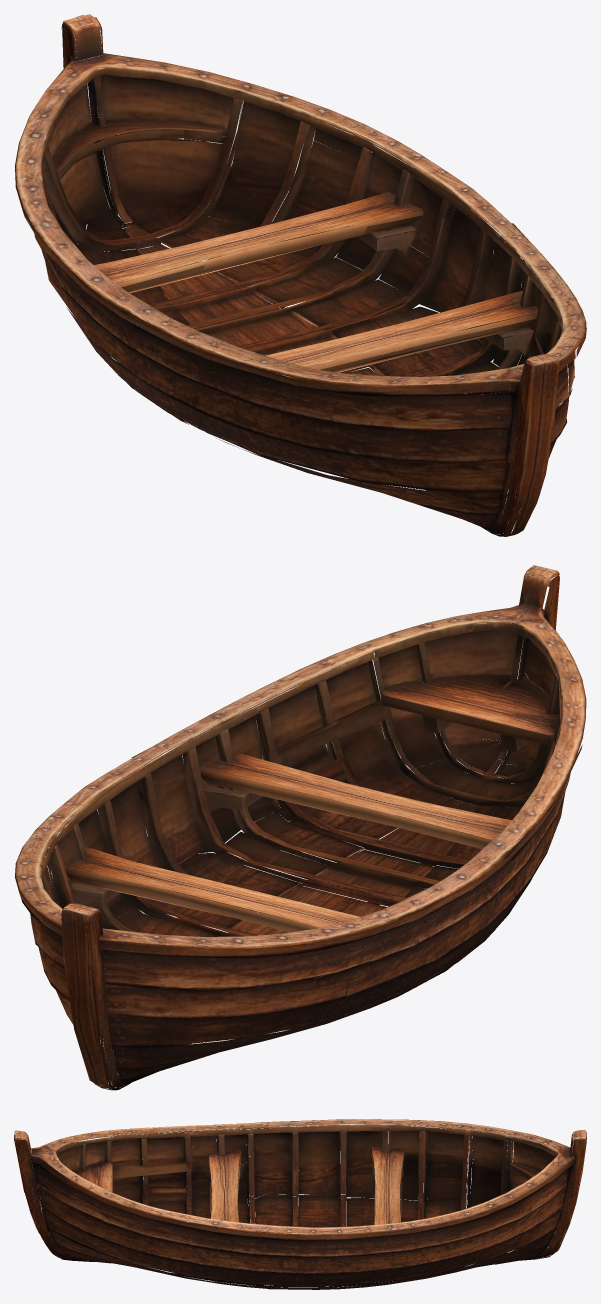
File: barque.glb
The picture shows the model from 3 angles, top to bottom: view 1: azimuth 30°, elevation 25°; view 2: azimuth 150°, elevation 25°; view 3: azimuth 270°, elevation 25°; orthographic projection. The views are drawn at different scales.
Parts seen in each view (by area): view 1: Barque_Fournie; view 2: Barque_Fournie; view 3: Barque_Fournie.
Part boxes in pixels (box(x1,y1,x2,y2)): Barque_Fournie: box(15, 14, 586, 536); Barque_Fournie: box(15, 565, 586, 1090); Barque_Fournie: box(14, 1119, 586, 1289).
Size of the model in its own units: 0.2763 by 0.1428 by 0.58.
1 material, 1 textured.
